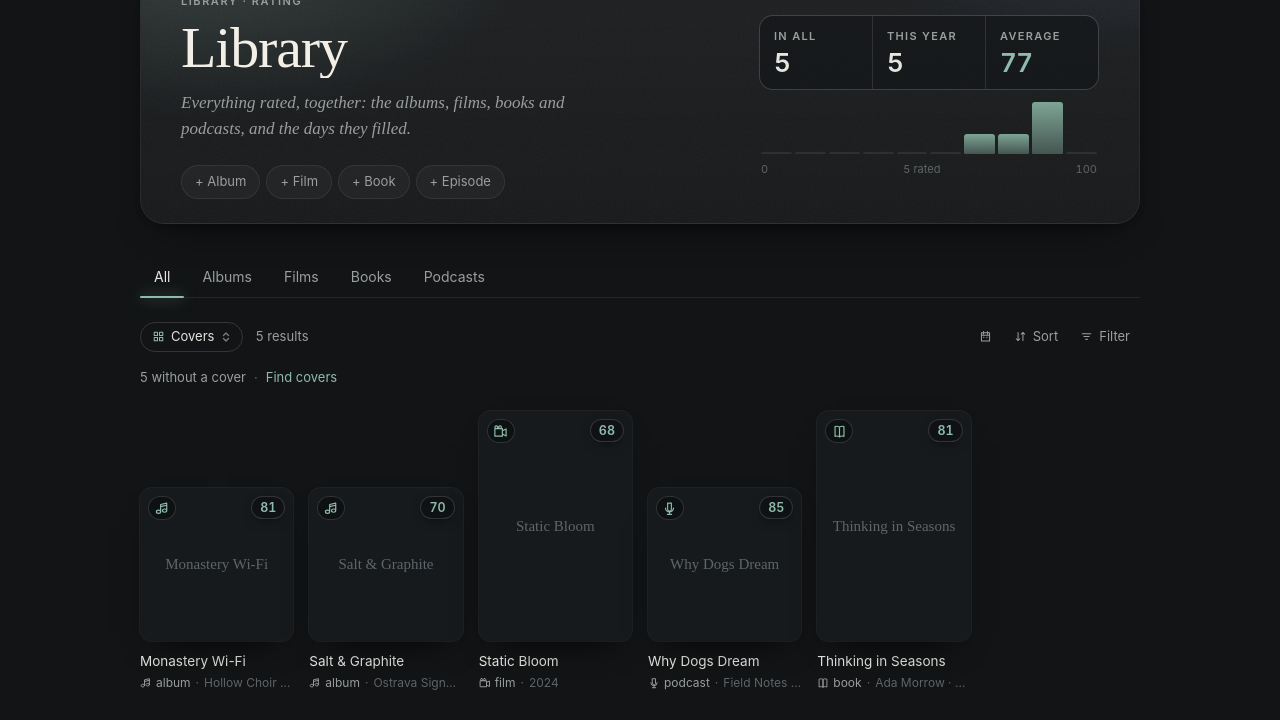
Test: the library's All tab › draws several covers on a day of the calendar, the best rated in front
Click the button with test id "library-calendar-open".
click(985, 337)  # box x1=969 y1=322 x2=1002 y2=352
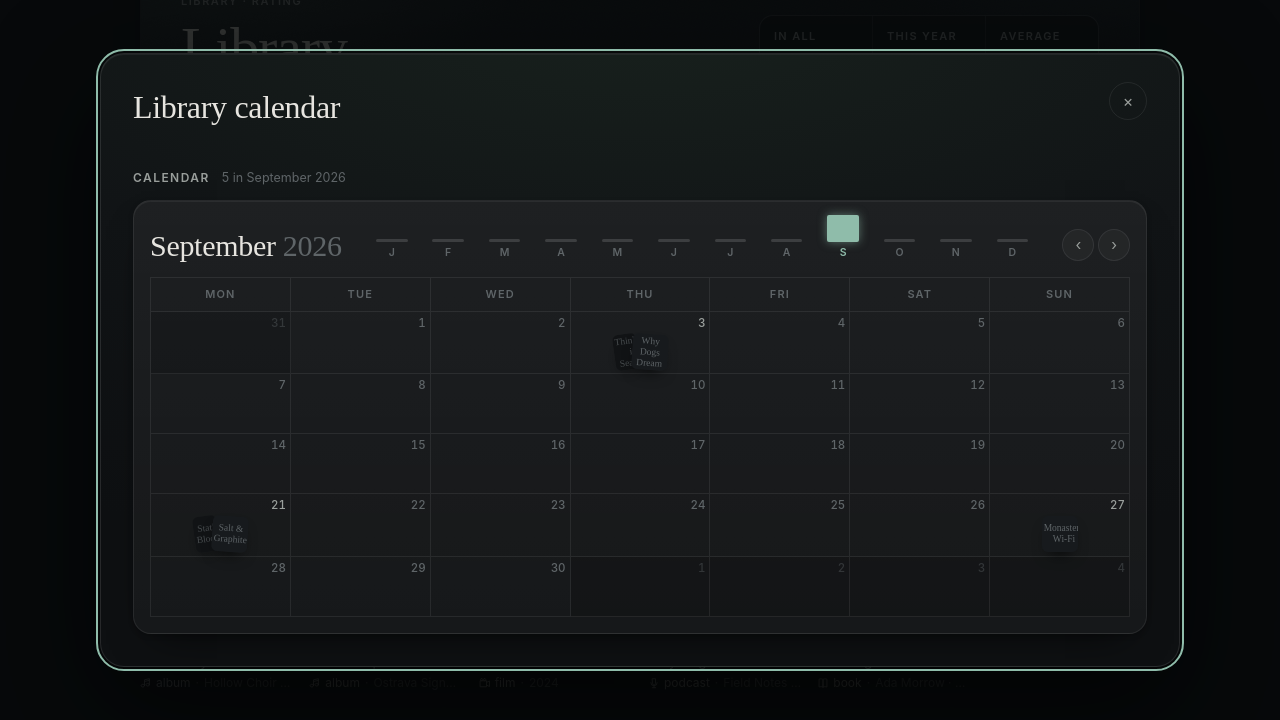
Expected: the heading with test id "cover-calendar-month" reads "September 2026", x1=150 y1=231 x2=342 y2=261
